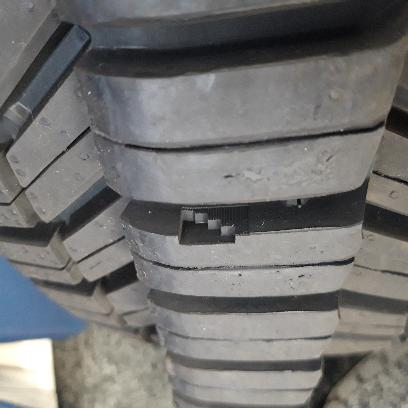temoin:100: (176, 206, 253, 248)
